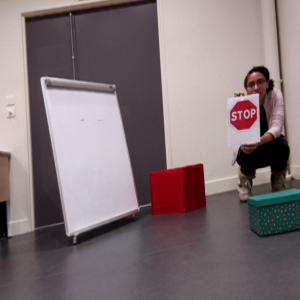stop: (230, 100, 256, 130)
